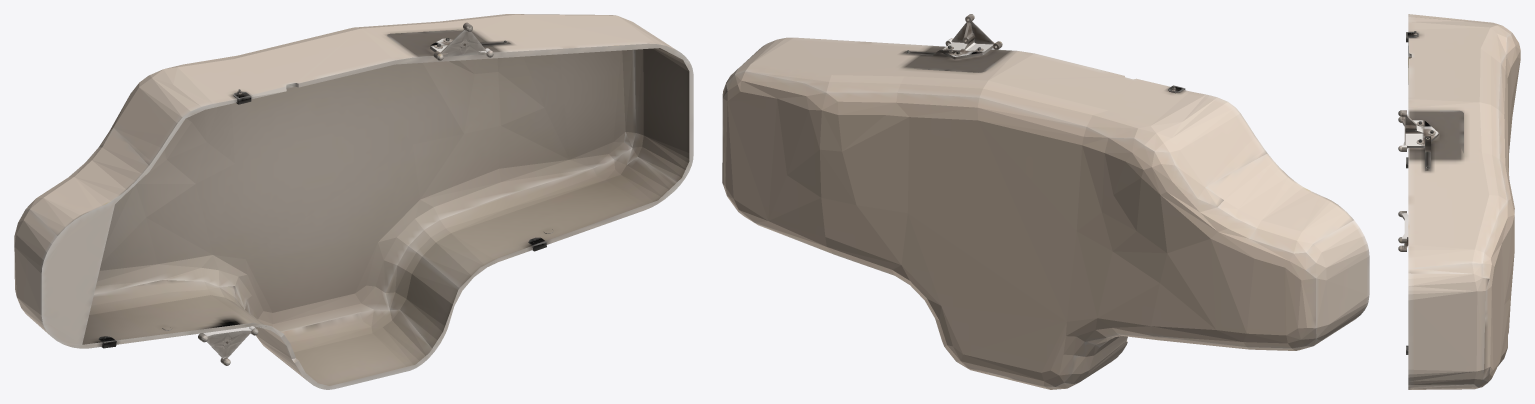
Rendered from MHS_DebrisShield.gltf.
The picture shows the model from 3 angles, left to right: view 1: azimuth 30°, elevation 25°; view 2: azimuth 150°, elevation 25°; view 3: azimuth 270°, elevation 25°; orthographic projection. The views are drawn at different scales.
Visible parts, largest first — view 1: Mesh_0; view 2: Mesh_0; view 3: Mesh_0.
Part boxes in pixels (x1,y1,x2,y2): Mesh_0: (14,14,693,389); Mesh_0: (722,14,1369,389); Mesh_0: (1398,14,1520,389).
Size of the model in its own units: 1.31 by 0.6421 by 0.2461.
Materials: 1 (1 with a texture image).
